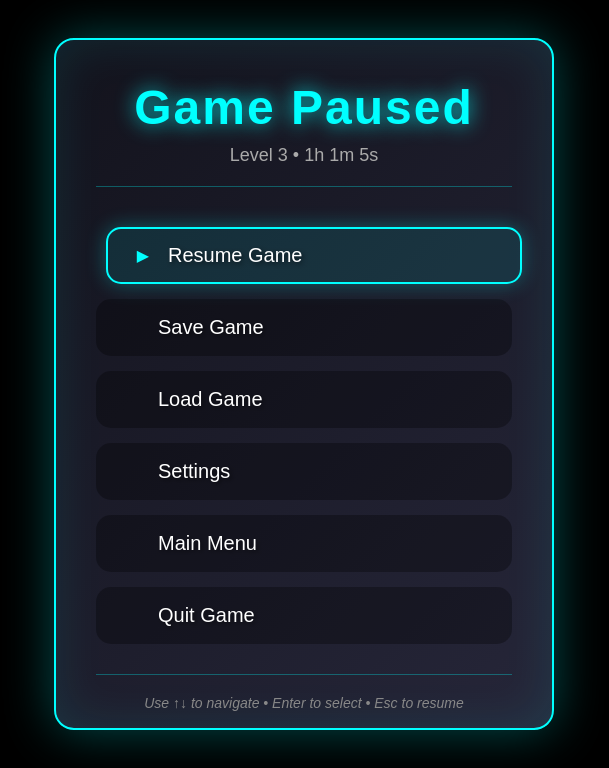
Test: InGamePauseMenu Component › shows load game menu
Click the text "Load Game": (210, 399) [158,388,262,410]
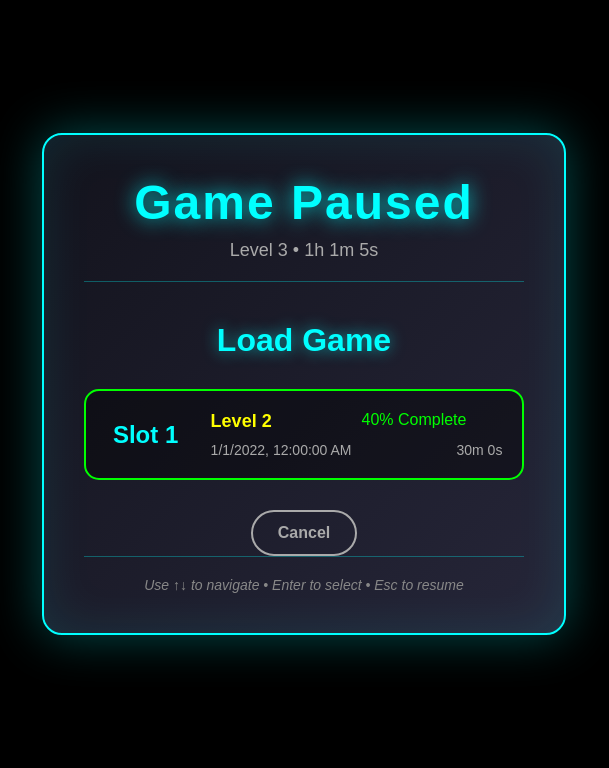
Expected: the heading "Load Game" is shown, [217,322,391,358]
Expected: the text "Level 2" is shown, [211,411,272,431]
Expected: the text "40% Complete" is shown, [362,411,466,428]
